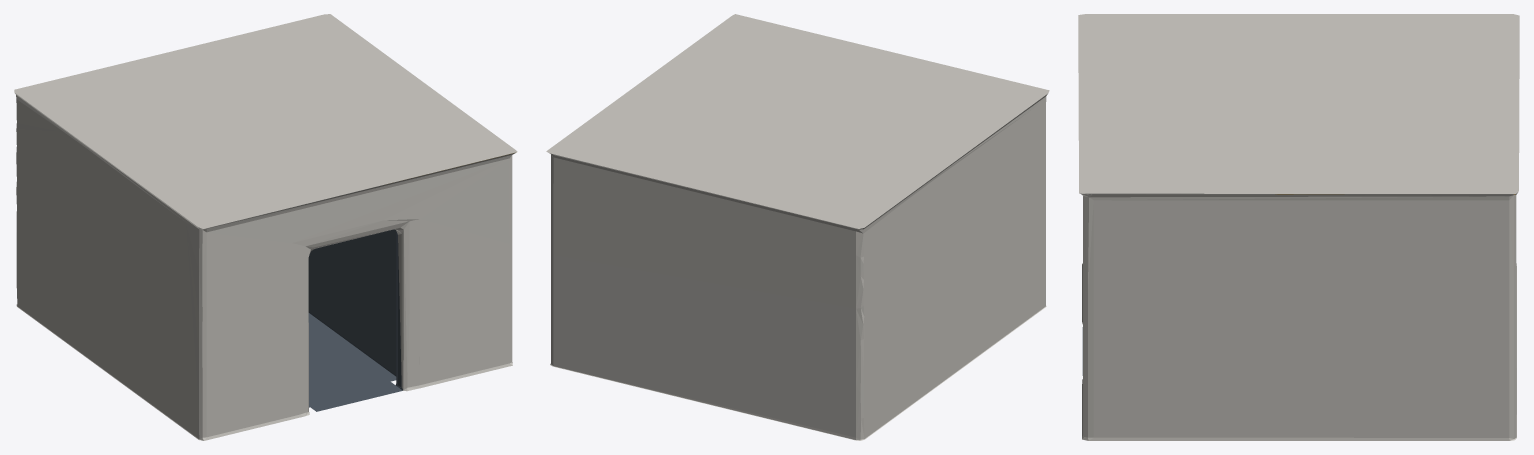
File: etape-1.glb
The picture shows the model from 3 angles, left to right: view 1: azimuth 30°, elevation 25°; view 2: azimuth 150°, elevation 25°; view 3: azimuth 270°, elevation 25°; orthographic projection. The views are drawn at different scales.
Parts seen in each view (by area): view 1: geometry_0; view 2: geometry_0; view 3: geometry_0.
Part boxes in pixels (<box>): geometry_0: <box>14,14,517,440</box>; geometry_0: <box>546,14,1049,440</box>; geometry_0: <box>1078,14,1519,440</box>.
Size of the model in its own units: 0.6897 by 0.4434 by 0.7151.
